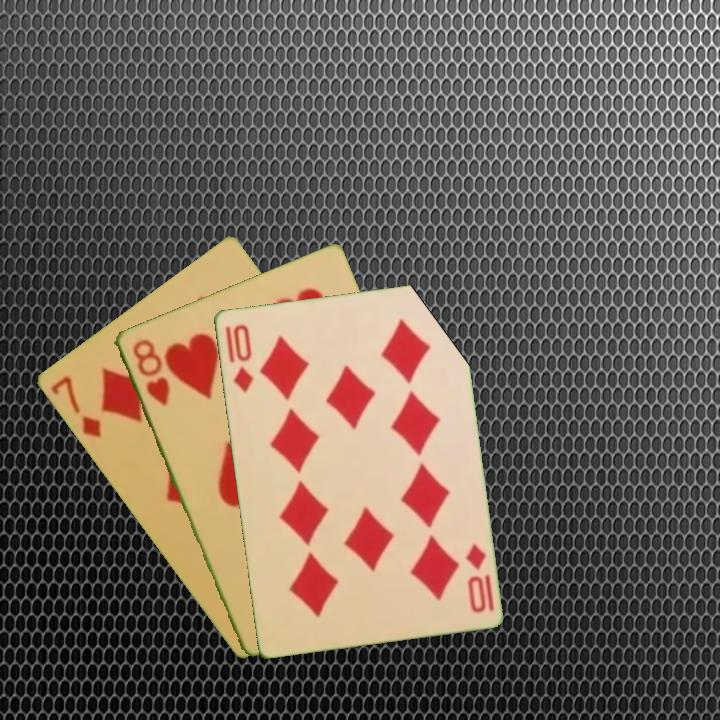10d: (461, 540, 497, 616), (229, 320, 256, 396)
7d: (46, 372, 104, 441)
8h: (128, 335, 173, 408)
